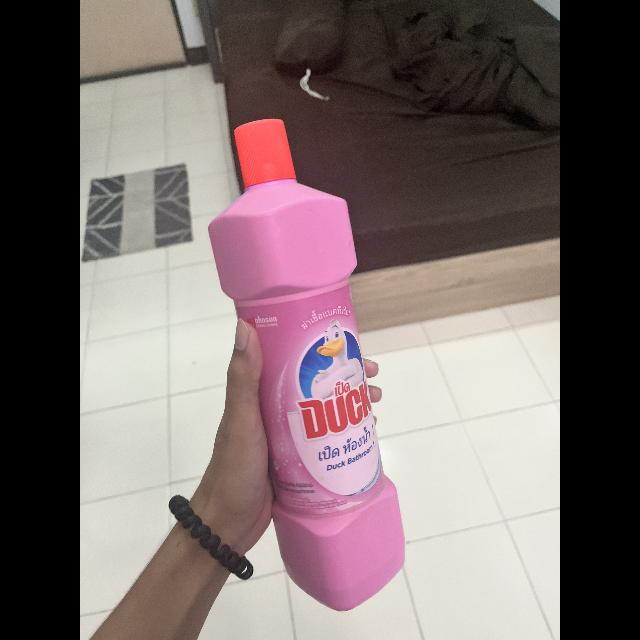chemical_plastic_bottle: (206, 110, 412, 616)
